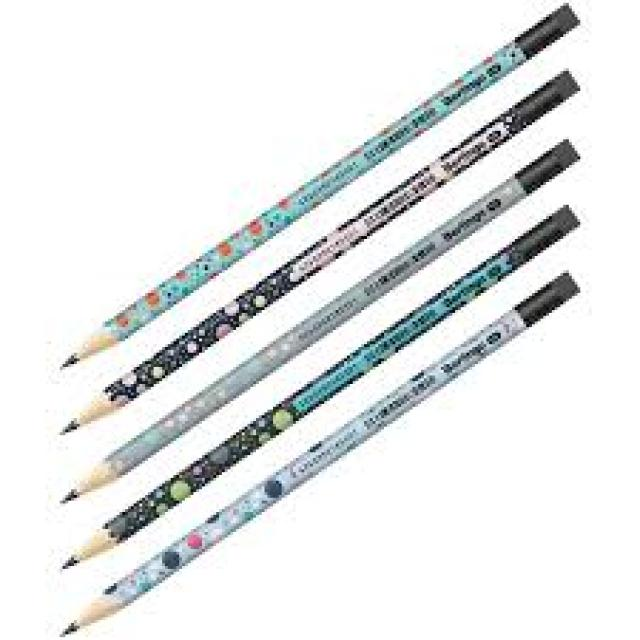pencil: (51, 136, 587, 513), (51, 201, 587, 573), (56, 67, 589, 435), (55, 1, 583, 370), (55, 267, 582, 634)
